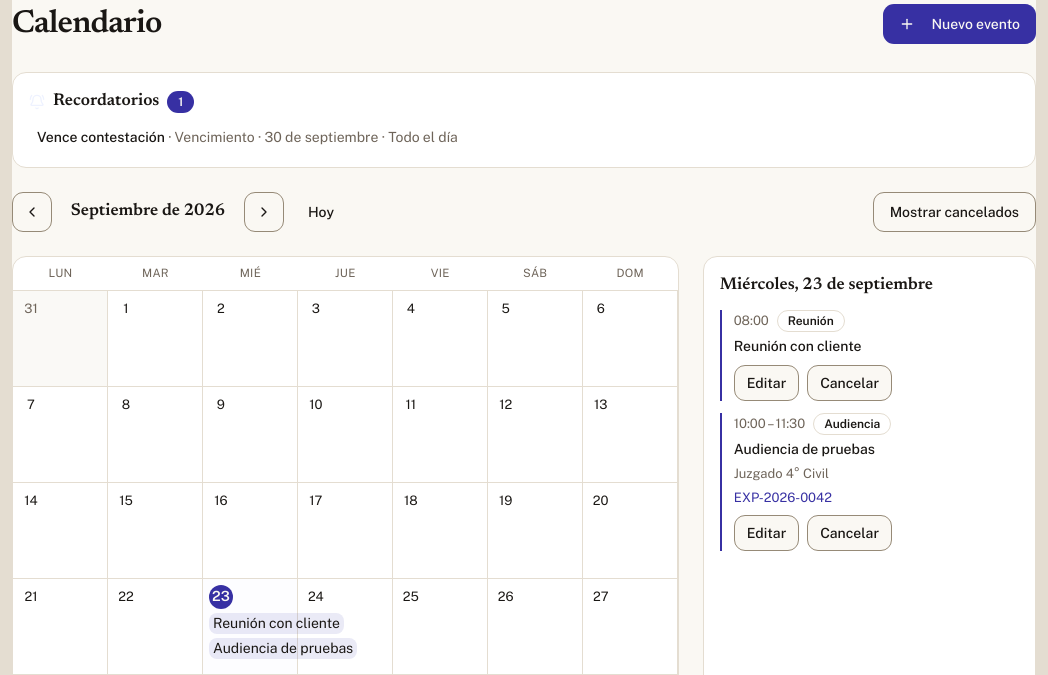
CalendarView › the next month asks for its own range
Click the button named "mes siguiente" at coordinates (264, 212), box [244,192,284,232]
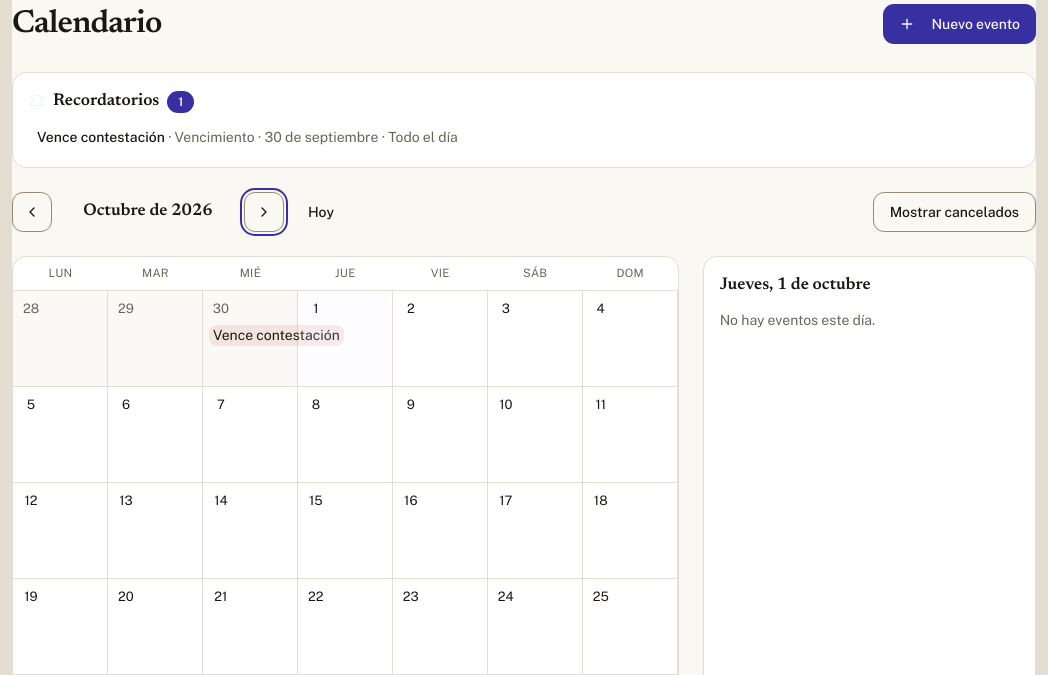
Expected: the heading "octubre de 2026" is shown, [83,203,213,220]
